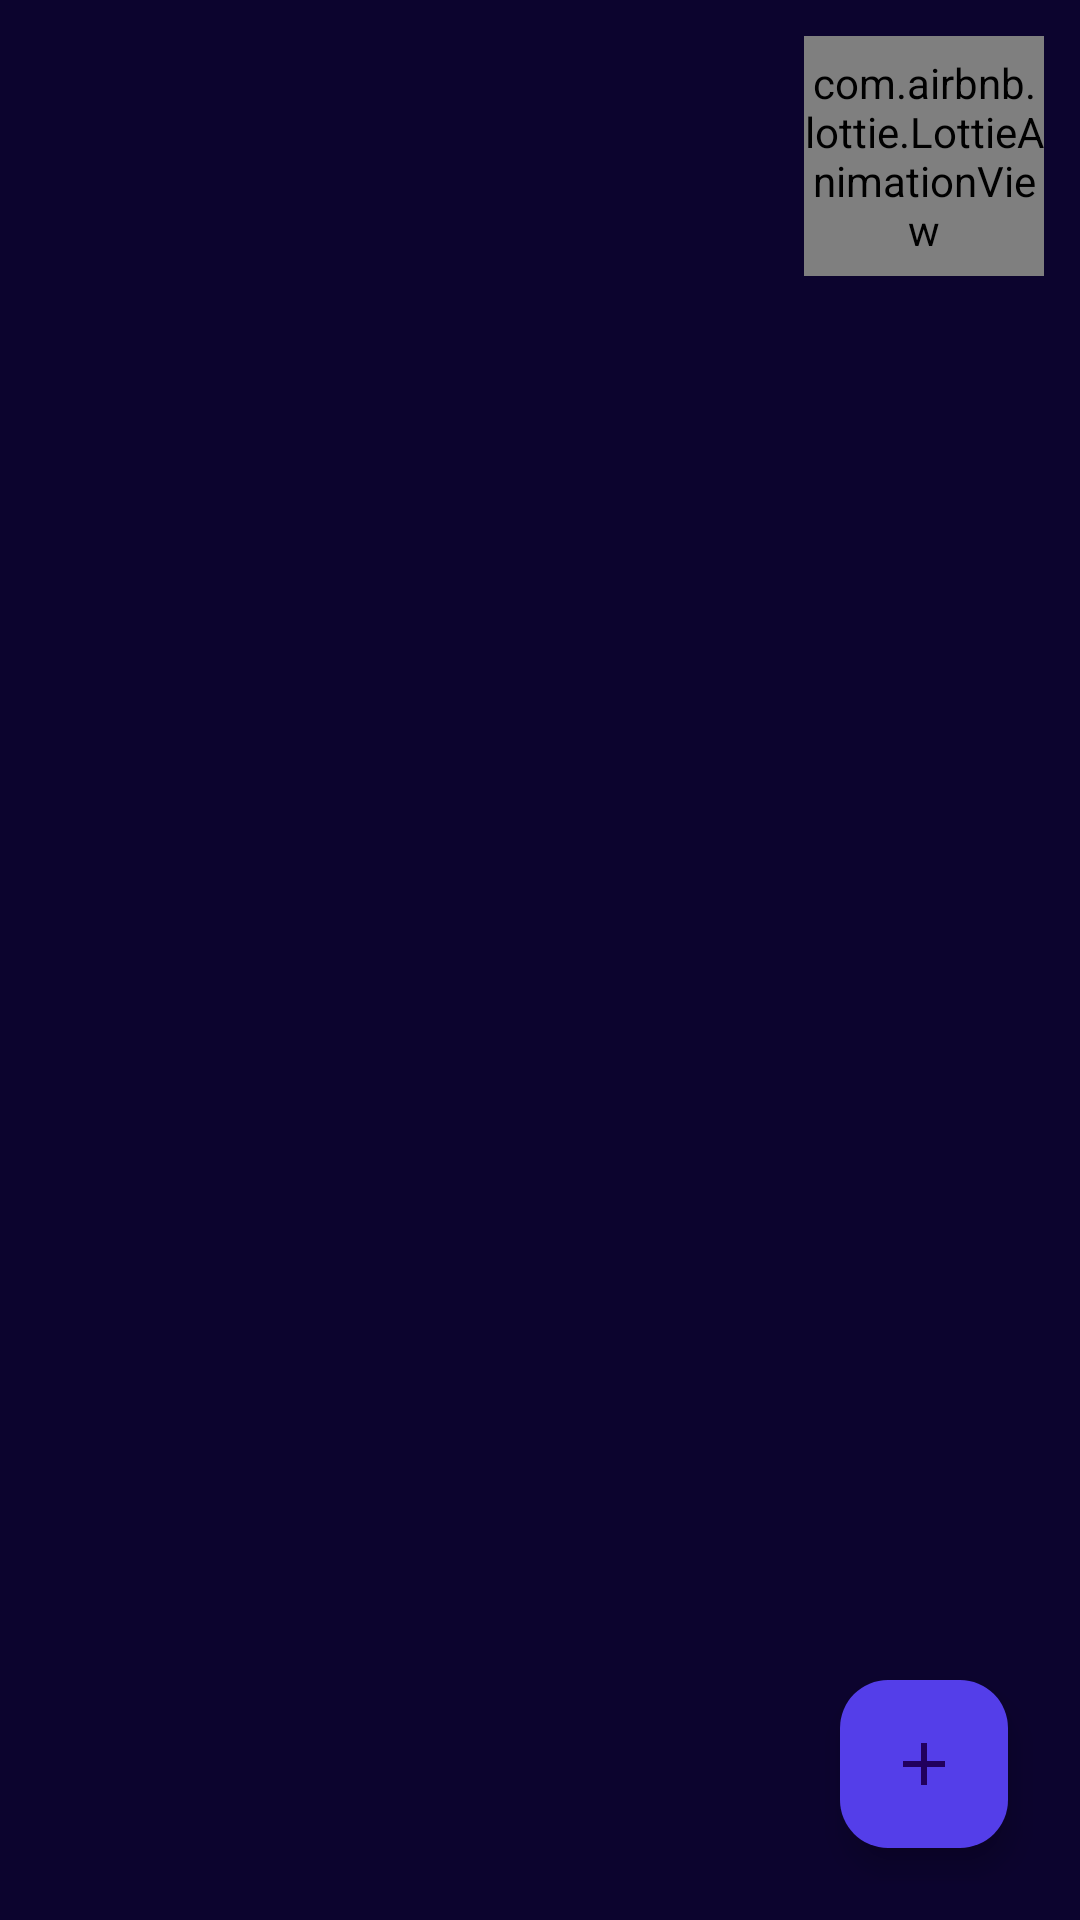

Screen size 1080x1920. Icon name, then its box in pixels as rect(x1, y1, x2, y2):
Add Material: rect(840, 1680, 1008, 1848)
